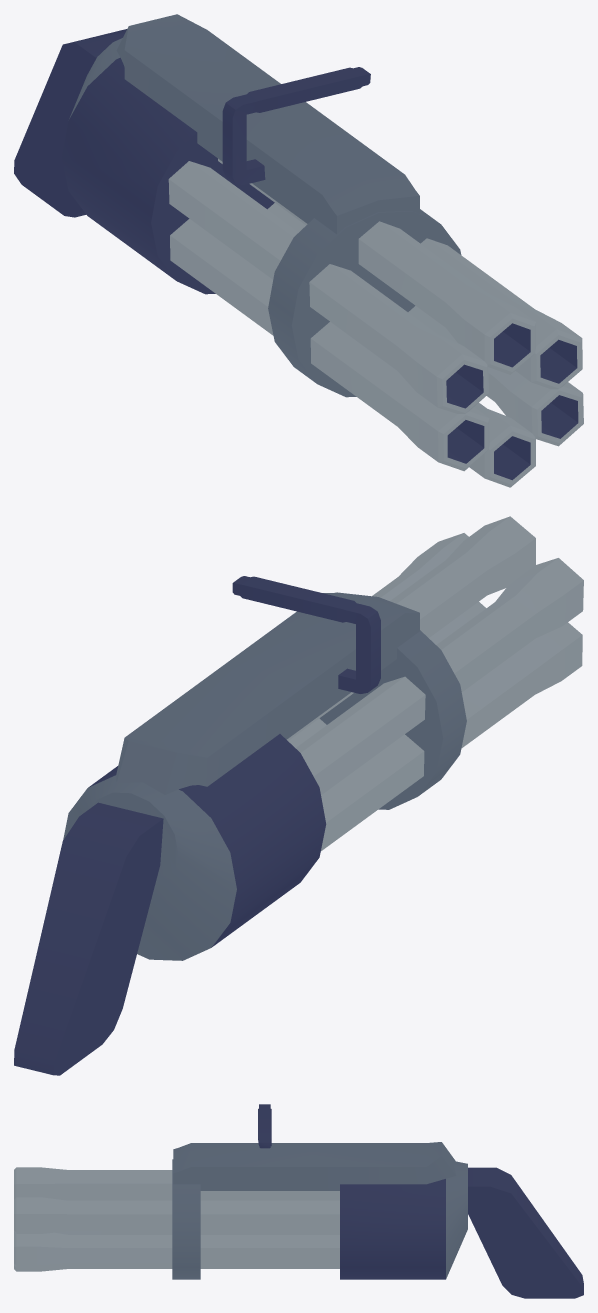
File: minigun.glb
3 views of the same model, one above another, from view 1: azimuth 30°, elevation 25°; view 2: azimuth 150°, elevation 25°; view 3: azimuth 270°, elevation 25° (orthographic). The views are drawn at different scales.
Parts seen in each view (by area): view 1: minigun; view 2: minigun; view 3: minigun.
Part boxes in pixels (x1,y1,x2,y2): minigun: (14,14,583,487); minigun: (14,516,583,1075); minigun: (14,1104,583,1298).
Bounding box in the file's own units: 2.16 × 3.38 × 10.25.
